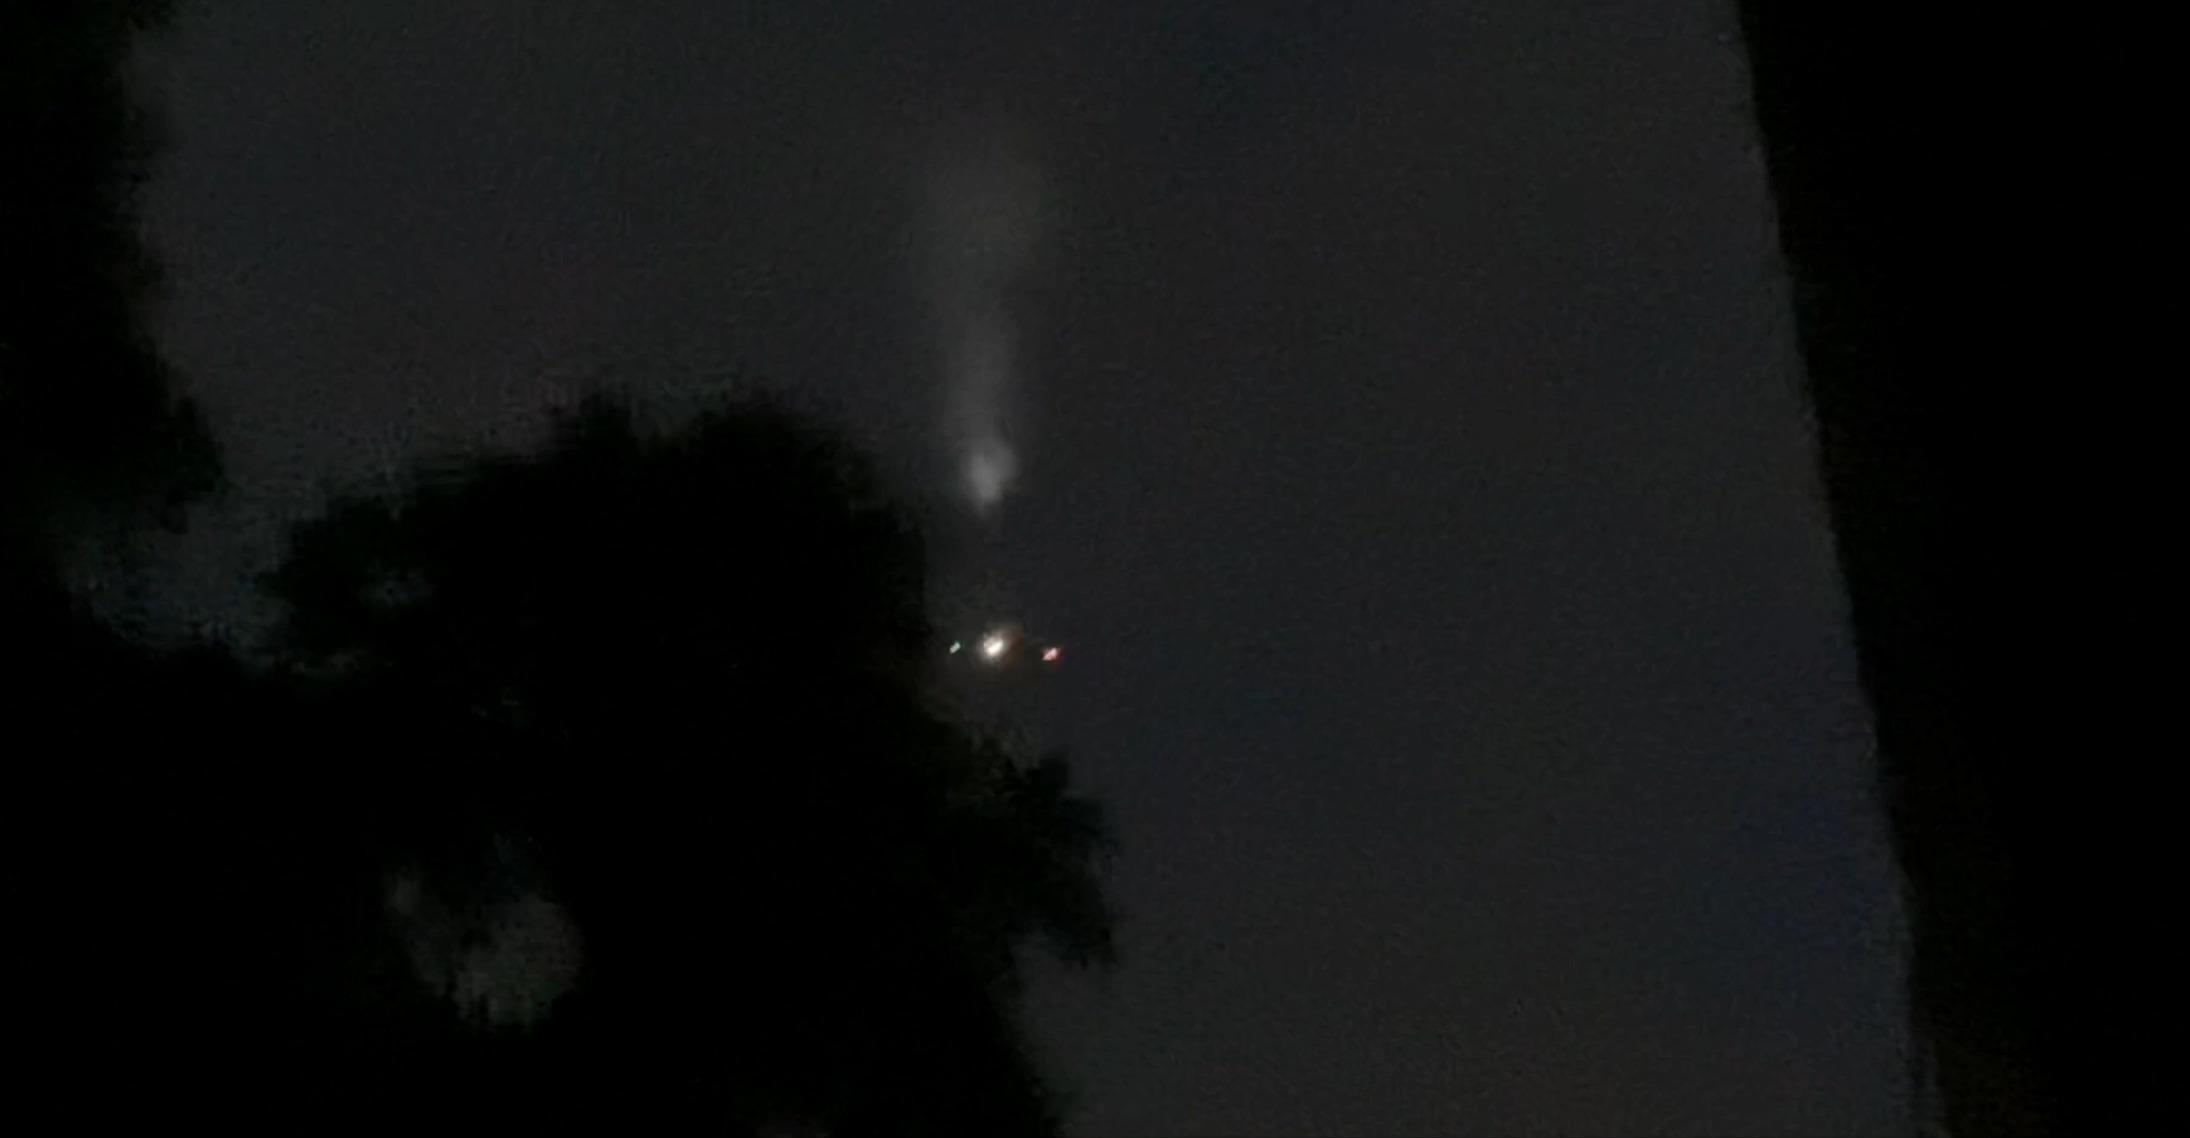Plane: (933, 585, 1104, 705)
